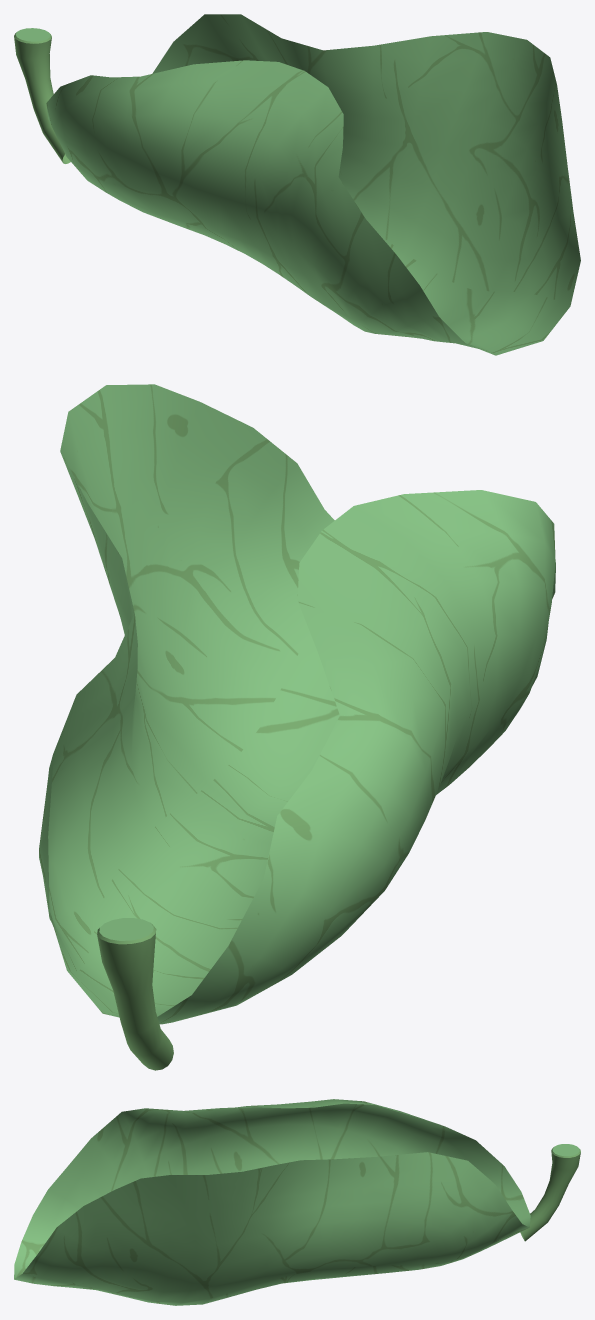
Rendered from Mesh_Home_RF_Leaf_04_SM.fbx.
3 views of the same model, one above another, from view 1: azimuth 30°, elevation 25°; view 2: azimuth 150°, elevation 25°; view 3: azimuth 270°, elevation 25° (orthographic). The views are drawn at different scales.
Visible parts, largest first — view 1: Mesh_Home_RF_Leaf_04; view 2: Mesh_Home_RF_Leaf_04; view 3: Mesh_Home_RF_Leaf_04.
Boxes of the visible parts, x1=… form: Mesh_Home_RF_Leaf_04: x1=14, y1=14, x2=580, y2=355; Mesh_Home_RF_Leaf_04: x1=39, y1=384, x2=555, y2=1070; Mesh_Home_RF_Leaf_04: x1=14, y1=1099, x2=580, y2=1305.
Bounding box in the file's own units: 1540 × 1055 × 2992.
Materials: 1 (1 with a texture image).
